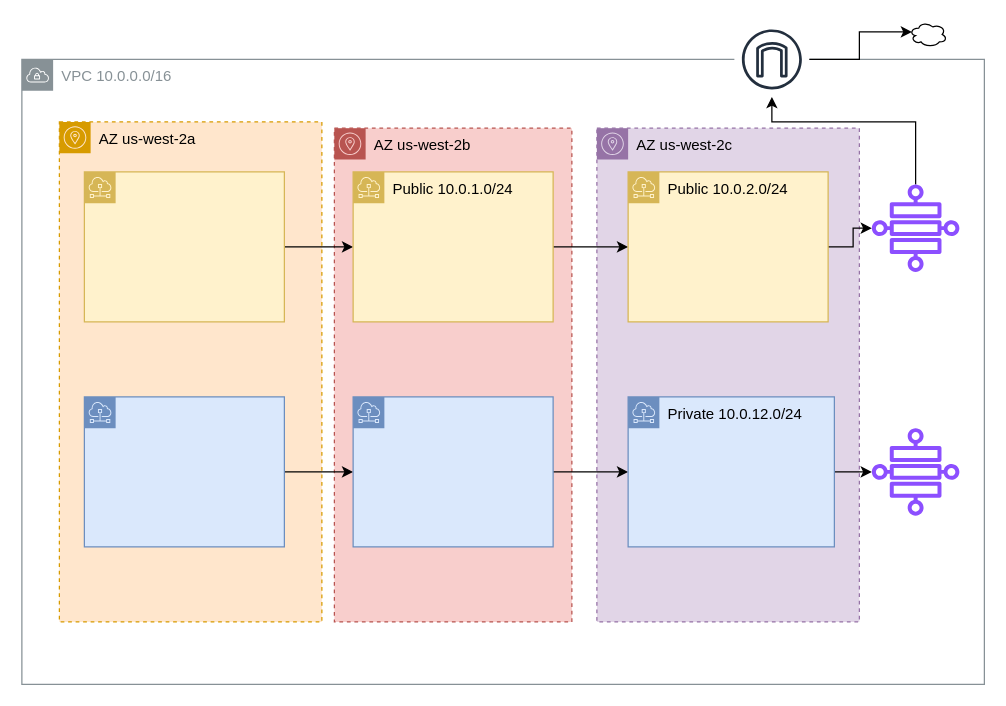
This 1006x706 diagram has some shape labels left out. The centre of each missing label's shape, as x and y in pixels:
Internet gateway: the point at 771,59
Private 10.0.10.0/24: the point at 183,471
Private 10.0.11.0/24: the point at 452,471
Public 10.0.0.0/24: the point at 183,246
